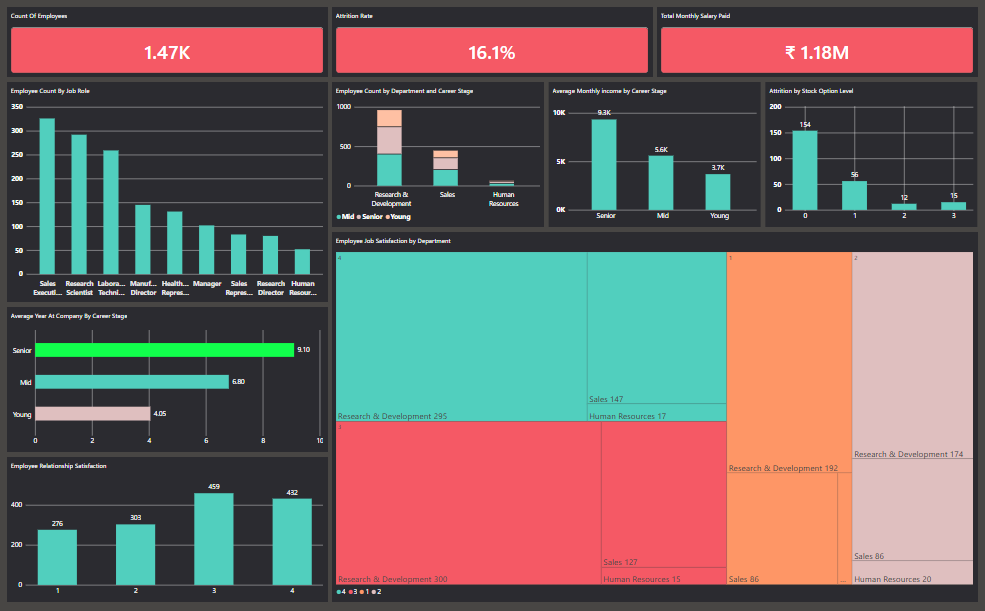

This screenshot's page, from the dashboard's own definition file:
{"tool":"powerbi","page":{"name":"Attrition Analysis","canvas":[1920,1080],"ordinal":1},"visuals":[{"type":"tableEx","title":"Attrition By Department","fields":{"Values":["HR Analytics Data.Department","HR Analytics Data.Employee Count","HR Analytics Data.Attrition Left","HR Analytics Data.Attrition Rate"]},"box":[19.5,753.1,1876.3,311.6],"z":0},{"type":"cardVisual","title":"Employees Left","fields":{"Data":["HR Analytics Data.Attrition Left"]},"box":[19.5,127.7,367.9,205.6],"z":1000},{"type":"cardVisual","title":"Attrition Rate","fields":{"Data":["HR Analytics Data.Attrition Rate"]},"box":[735.8,127.7,361.4,205.6],"z":2000},{"type":"clusteredColumnChart","title":"Attrition By Career Stage","fields":{"Category":["HR Analytics Data.Career Stage"],"Y":["HR Analytics Data.Attrition Left","HR Analytics Data.Stayed"]},"box":[1097.2,127.7,798.6,625.4],"z":3000},{"type":"cardVisual","title":"Employees Stayed","fields":{"Data":["HR Analytics Data.Stayed"]},"box":[387.4,127.7,348.4,205.6],"z":4000},{"type":"clusteredBarChart","title":"Average Year At Company By Career Stage","fields":{"Category":["HR Analytics Data.Career Stage"],"Y":["Avg(HR Analytics Data.YearsAtCompany)"]},"box":[19.5,333.3,491.3,419.8],"z":5000},{"type":"clusteredColumnChart","title":"Attrition by Stock Option Level","fields":{"Category":["HR Analytics Data.StockOptionLevel"],"Y":["HR Analytics Data.Attrition Left"]},"box":[510.7,333.3,586.5,419.8],"z":6000},{"type":"actionButton","box":[1649.1,0,253.2,127.7],"z":6001},{"type":"actionButton","box":[19.5,0,253.2,125.5],"z":6002}]}

Visuals, with their boxes on the page's 1920x1080 design canvas (x1, y1, x2, y2). These are canvas units, not pixel positions in the 985x611 screenshot, which may show the page scaled, cropped or inside an application window:
"Attrition By Department" tableEx: locate(20, 753, 1896, 1065)
"Employees Left" cardVisual: locate(20, 128, 387, 333)
"Attrition Rate" cardVisual: locate(736, 128, 1097, 333)
"Attrition By Career Stage" clusteredColumnChart: locate(1097, 128, 1896, 753)
"Employees Stayed" cardVisual: locate(387, 128, 736, 333)
"Average Year At Company By Career Stage" clusteredBarChart: locate(20, 333, 511, 753)
"Attrition by Stock Option Level" clusteredColumnChart: locate(511, 333, 1097, 753)
actionButton: locate(1649, 0, 1902, 128)
actionButton: locate(20, 0, 273, 126)
